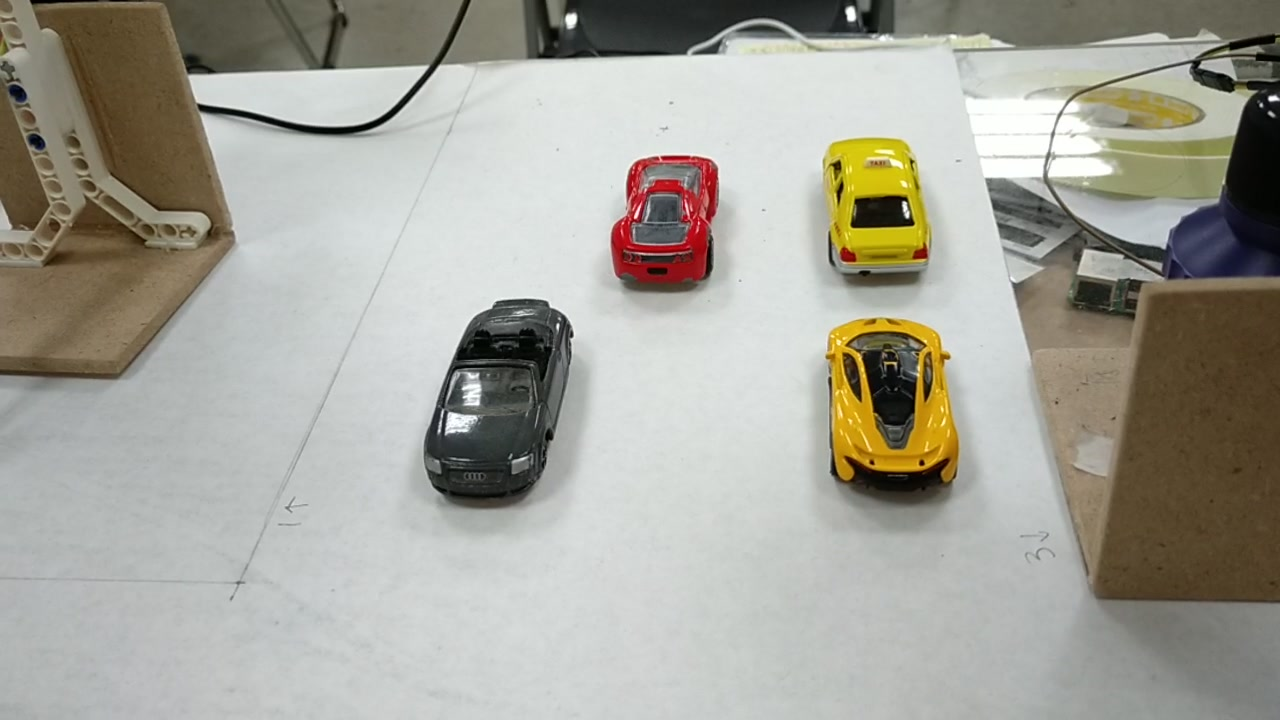car: (421, 301, 583, 499), (824, 323, 948, 492), (829, 129, 930, 284), (610, 150, 721, 280)
